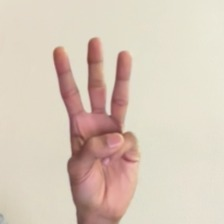W: (24, 30, 159, 221)
